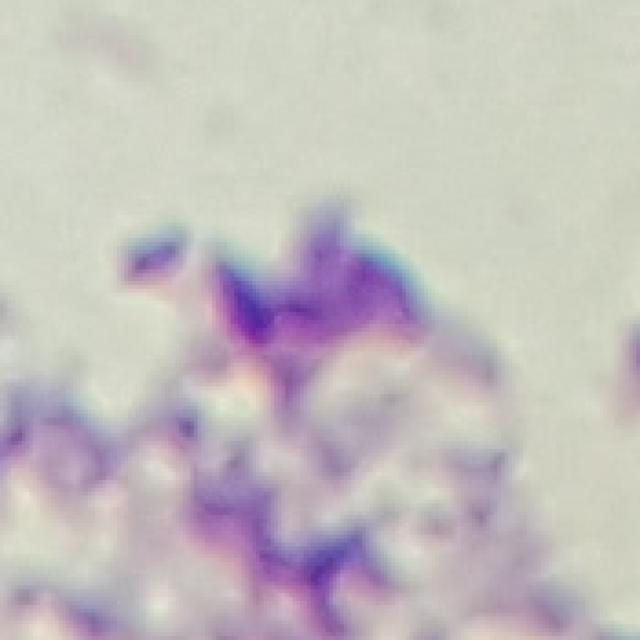non-sperm: (114, 222, 440, 598)
